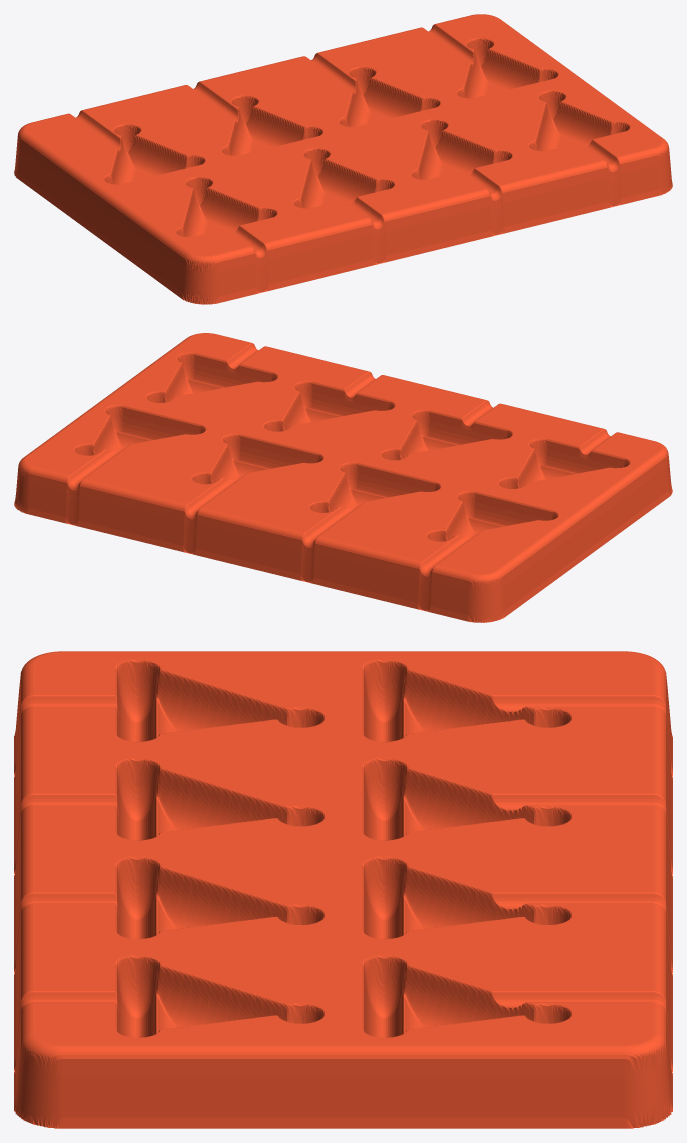
The model's file is mold.glb.
3 views of the same model, one above another, from view 1: azimuth 30°, elevation 25°; view 2: azimuth 150°, elevation 25°; view 3: azimuth 270°, elevation 25° (orthographic). The views are drawn at different scales.
Visible parts, largest first — view 1: geometry_0; view 2: geometry_0; view 3: geometry_0.
Part boxes in pixels (x1,y1,x2,y2): geometry_0: (14,14,672,304); geometry_0: (14,333,672,622); geometry_0: (14,651,672,1128).
Size of the model in its own units: 0.1805 by 0.0155 by 0.1229.
